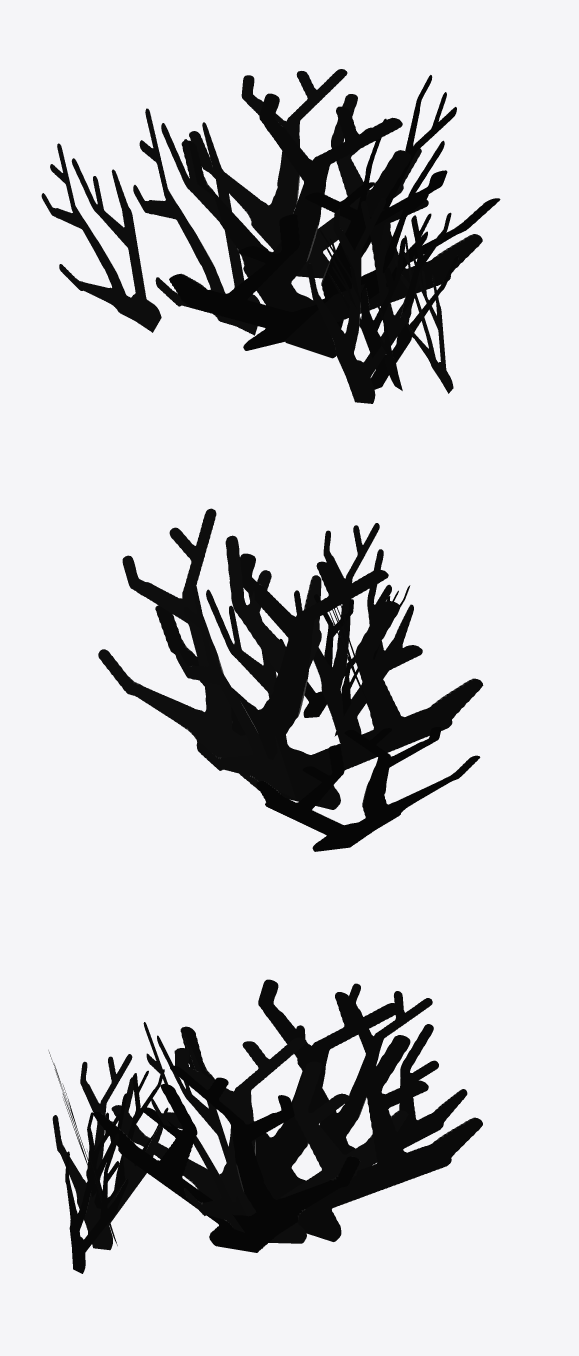
Rendered from BrambleMeshes.obj.
3 renders of one model, top to bottom at view 1: azimuth 30°, elevation 25°; view 2: azimuth 150°, elevation 25°; view 3: azimuth 270°, elevation 25°, orthographic.
Visible parts, largest first — view 1: BrambleLarge, BrambleSmall; view 2: BrambleLarge, BrambleSmall; view 3: BrambleLarge, BrambleSmall.
Part boxes in pixels (x1,y1,x2,y2): BrambleLarge: (41, 69, 500, 358); BrambleSmall: (307, 198, 458, 403); BrambleLarge: (98, 508, 483, 851); BrambleSmall: (279, 523, 413, 742); BrambleLarge: (93, 979, 482, 1252); BrambleSmall: (48, 1050, 168, 1273).
Bounding box in the file's own units: 2.78 × 1.31 × 2.76.
1 material, 1 textured.
